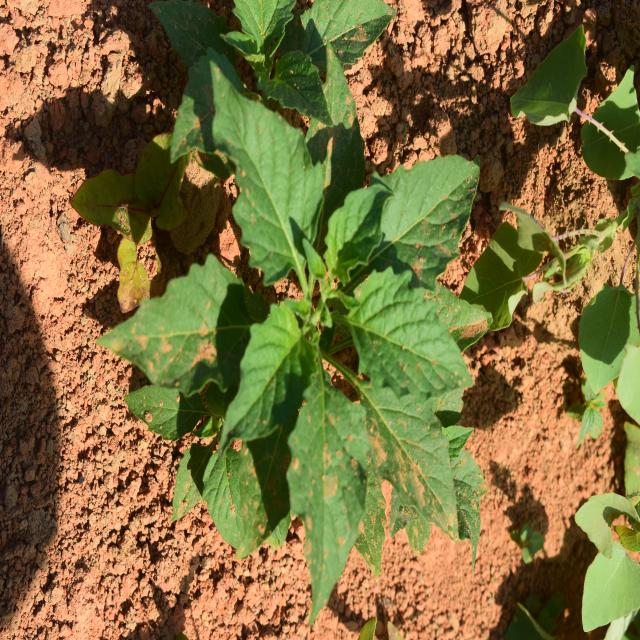Black_nightshade: (176, 88, 469, 546)
